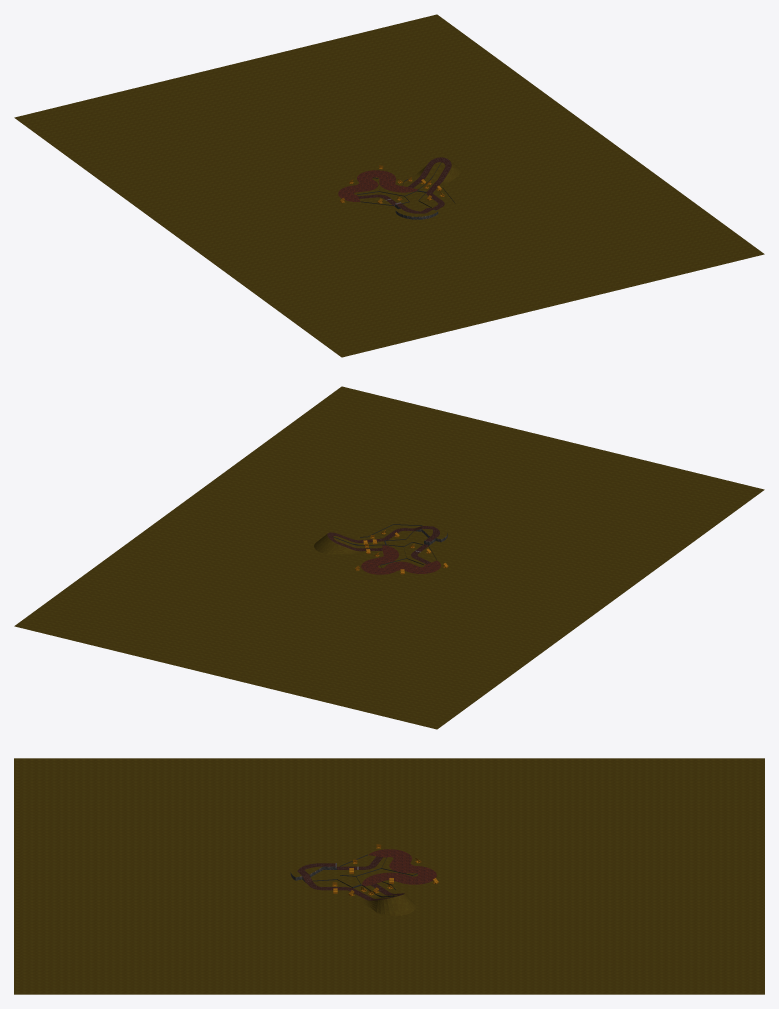
3 views of the same model, one above another, from view 1: azimuth 30°, elevation 25°; view 2: azimuth 150°, elevation 25°; view 3: azimuth 270°, elevation 25° (orthographic). The views are drawn at different scales.
Visible parts, largest first — view 1: Abandoned_Bazaar_SKP__Material1, Abandoned_Bazaar_SKP__Material7, Abandoned_Bazaar_SKP__Material4; view 2: Abandoned_Bazaar_SKP__Material1, Abandoned_Bazaar_SKP__Material7, Abandoned_Bazaar_SKP__Material4; view 3: Abandoned_Bazaar_SKP__Material1, Abandoned_Bazaar_SKP__Material7, Abandoned_Bazaar_SKP__Material4.
Boxes of the visible parts, x1,y1,x2,y2 form: Abandoned_Bazaar_SKP__Material1: (14,14,764,357); Abandoned_Bazaar_SKP__Material7: (338,170,417,201); Abandoned_Bazaar_SKP__Material4: (358,157,451,213); Abandoned_Bazaar_SKP__Material1: (14,386,764,729); Abandoned_Bazaar_SKP__Material7: (361,545,440,574); Abandoned_Bazaar_SKP__Material4: (327,526,439,564); Abandoned_Bazaar_SKP__Material1: (14,758,764,994); Abandoned_Bazaar_SKP__Material7: (362,849,436,886); Abandoned_Bazaar_SKP__Material4: (297,856,404,900).
Bounding box in the file's own units: 264454 × 6768 × 354791.
9 materials, 9 textured.
